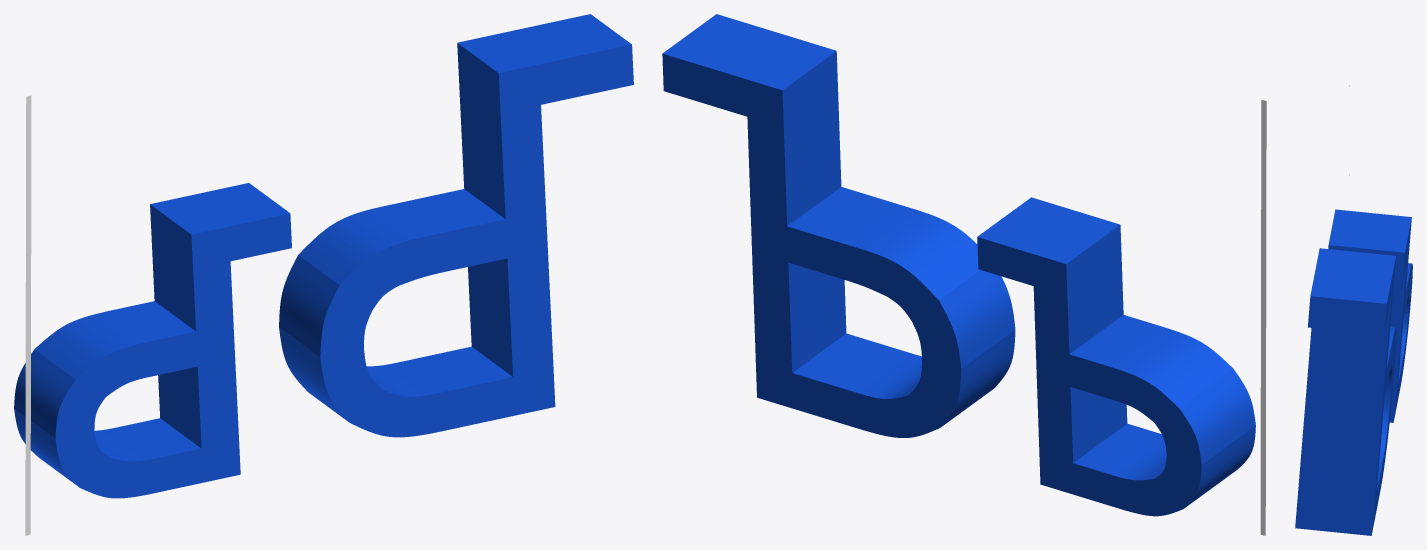
File: tverdyi.glb
3 renders of one model, left to right at view 1: azimuth 30°, elevation 25°; view 2: azimuth 150°, elevation 25°; view 3: azimuth 270°, elevation 25°, orthographic. The views are drawn at different scales.
Parts seen in each view (by area): view 1: Mesh_0.032, Плоскость; view 2: Mesh_0.032, Плоскость; view 3: Mesh_0.032.
Part boxes in pixels (x1,y1,x2,y2): Mesh_0.032: [14, 14, 633, 498]; Плоскость: [25, 95, 31, 535]; Mesh_0.032: [662, 14, 1255, 516]; Плоскость: [1260, 100, 1266, 535]; Mesh_0.032: [1295, 209, 1412, 535].
Size of the model in its own units: 13.14 by 9.38 by 2.87.
